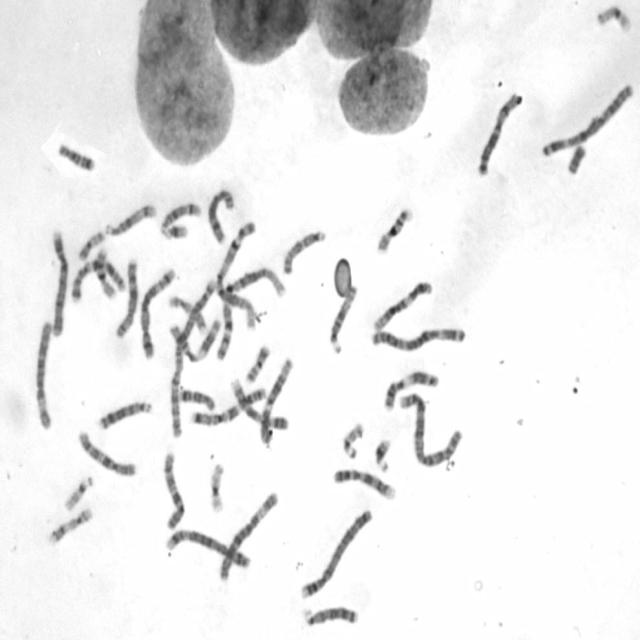A1: (212, 265, 293, 363), (215, 217, 258, 333)
A2: (167, 276, 218, 442), (396, 387, 464, 469)
A3: (538, 78, 635, 159), (368, 322, 466, 353)
B4: (297, 505, 374, 602), (46, 225, 70, 338)
B5: (163, 525, 253, 570), (137, 266, 177, 360)
C10: (75, 427, 138, 479), (160, 448, 187, 532)
C11: (381, 366, 441, 412), (169, 315, 223, 364)
C12: (370, 275, 435, 333), (256, 354, 295, 446)
C6: (215, 488, 280, 584), (32, 317, 54, 431)
C7: (188, 382, 268, 428), (69, 254, 128, 303)
C8: (113, 255, 140, 340), (205, 186, 236, 246)
C9: (229, 375, 289, 432), (331, 464, 398, 502)
D13: (96, 397, 154, 430), (300, 602, 360, 627)
D14: (103, 200, 156, 238), (158, 199, 202, 238)
D15: (280, 226, 328, 277), (326, 282, 359, 355)
E16: (374, 205, 415, 256), (91, 244, 117, 300)
E17: (46, 505, 94, 546), (169, 295, 207, 337)
E18: (56, 139, 96, 173), (176, 384, 216, 413)
F19: (594, 1, 633, 34), (207, 458, 227, 515)
F20: (243, 340, 272, 385), (76, 227, 106, 262)
G21: (372, 435, 392, 474), (159, 220, 191, 242)
G22: (61, 472, 95, 512), (339, 419, 365, 461)
X: (474, 90, 524, 180)
Y: (564, 141, 588, 175)
